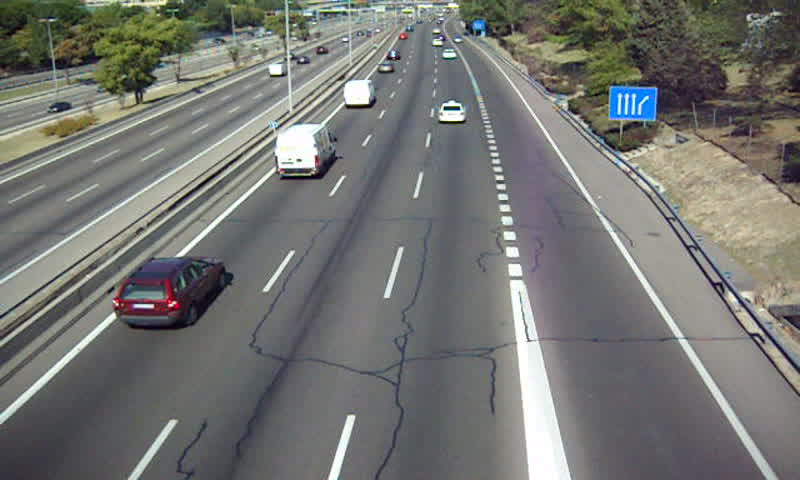car: (113, 257, 227, 328), (438, 102, 465, 124), (441, 48, 458, 60), (377, 62, 394, 74), (387, 48, 400, 62)
van: (273, 124, 339, 177), (344, 80, 375, 109)
